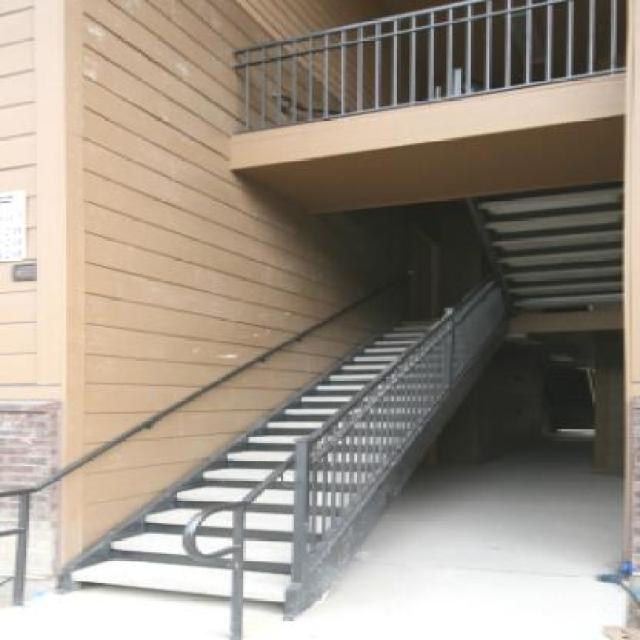stair: (10, 173, 561, 612)
